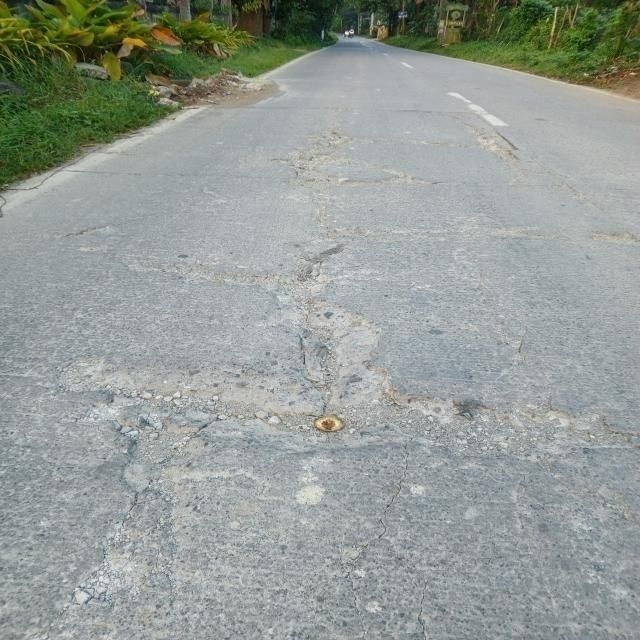pothole: (114, 221, 621, 502)
